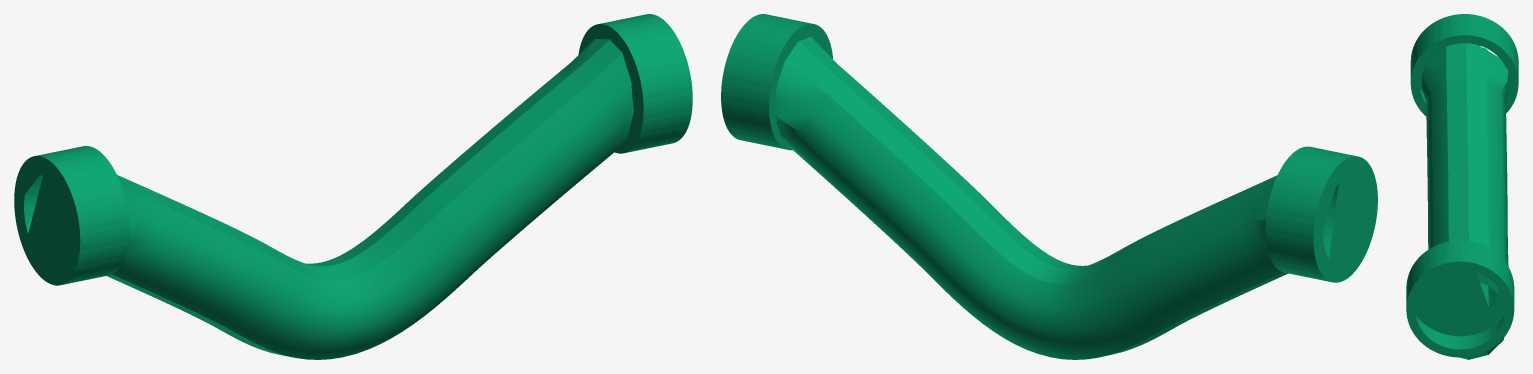
The model's file is tubo.fbx.
3 renders of one model, left to right at view 1: azimuth 30°, elevation 25°; view 2: azimuth 150°, elevation 25°; view 3: azimuth 270°, elevation 25°, orthographic. The views are drawn at different scales.
Visible parts, largest first — view 1: Cylinder.006; view 2: Cylinder.006; view 3: Cylinder.006.
Part boxes in pixels (x1,y1,x2,y2): Cylinder.006: (14,14,692,359); Cylinder.006: (721,14,1377,359); Cylinder.006: (1406,14,1518,359).
Bounding box in the file's own units: 489 × 202 × 94.49.
